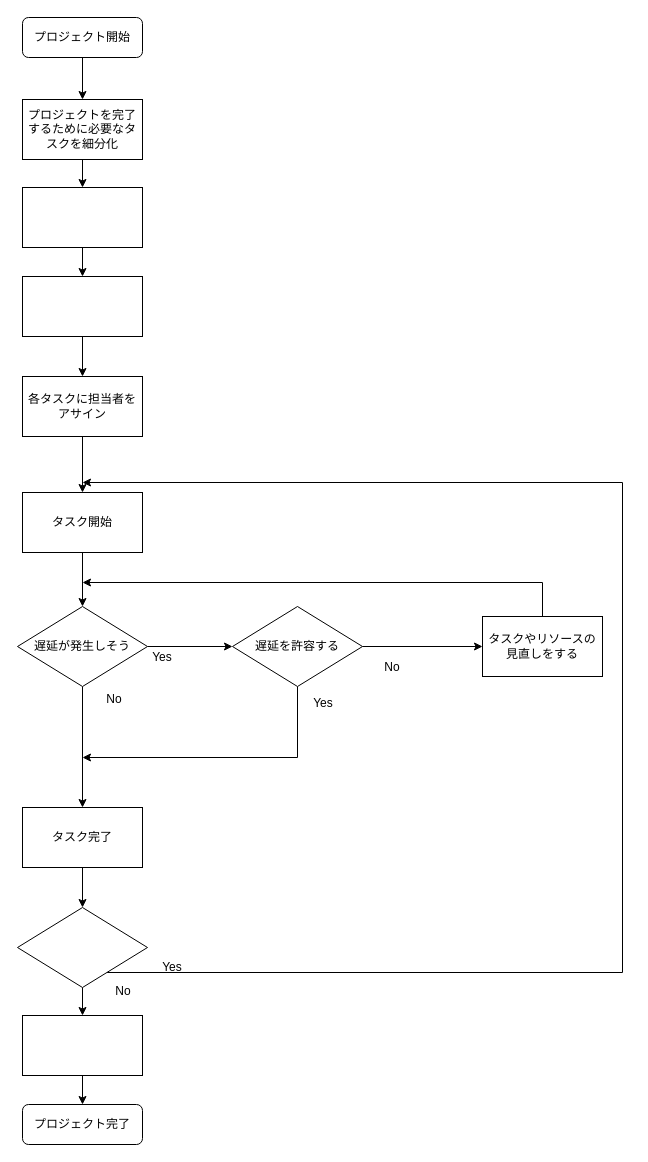
The diagram is 648 pixels wide and 1162 high, and some of its shapes have lost their labels. Each missing label, with the centre of its shape:
"各タスクの詳細や期限を決定" belongs at (x=82, y=306).
"各タスクを、タスク管理ツールやExcelに整理" belongs at (x=82, y=217).
"各種報告 成果物納品" belongs at (x=82, y=1045).
"後続のタスクがある" belongs at (x=82, y=947).
